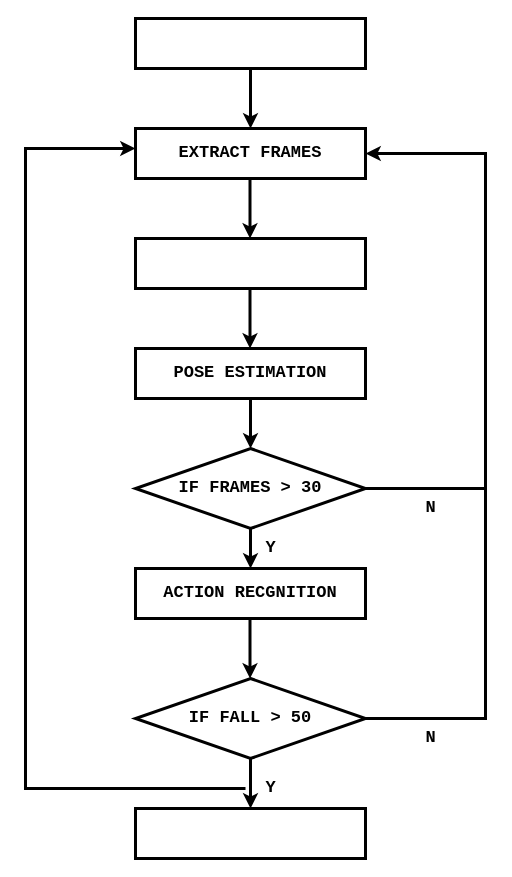
Image size: 512x877. Some labels were removed from this diagram. Each missing label, with the centre of its shape:
HUMAN DETECTION: point 250,263
INPUT CAMERA FEED: point 250,43
SEND ALARM: point 250,833
